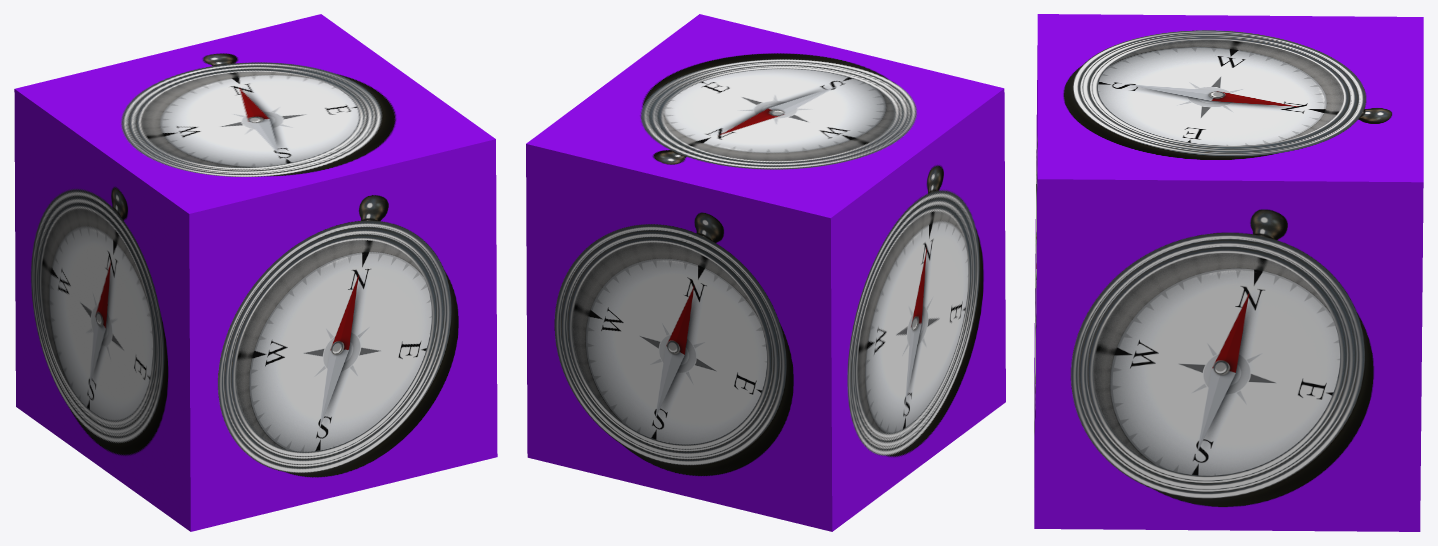
File: block_map_2.FBX
3 renders of one model, left to right at view 1: azimuth 30°, elevation 25°; view 2: azimuth 150°, elevation 25°; view 3: azimuth 270°, elevation 25°, orthographic. The views are drawn at different scales.
Visible parts, largest first — view 1: Box001; view 2: Box001; view 3: Box001.
Part boxes in pixels (bbox=[...]): Box001: bbox=[14, 14, 497, 531]; Box001: bbox=[526, 14, 1005, 531]; Box001: bbox=[1034, 14, 1423, 531].
Size of the model in its own units: 101 by 101 by 101.
Materials: 1 (1 with a texture image).
